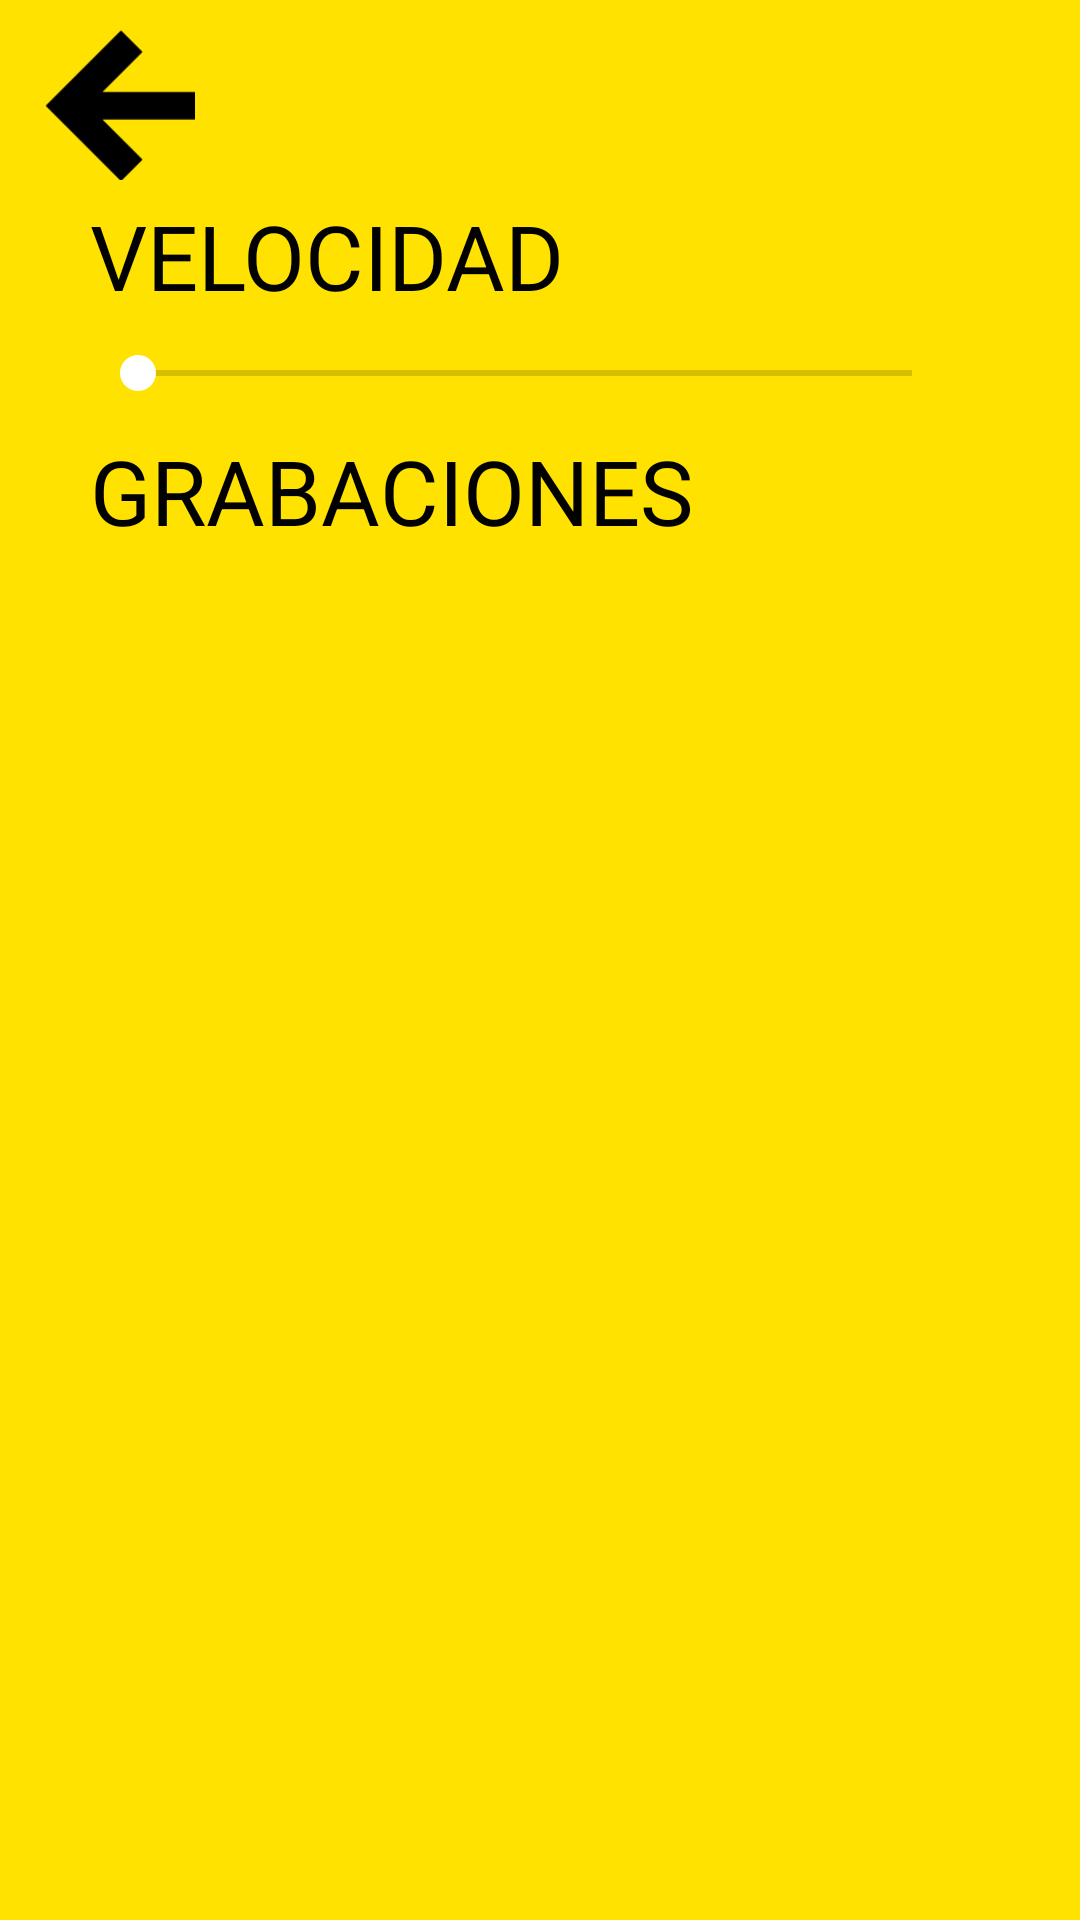

Screen size 1080w x 1920h. Icon name, then its box in pixels as region(x1, y1, x2, y2):
back: region(46, 30, 195, 180)
